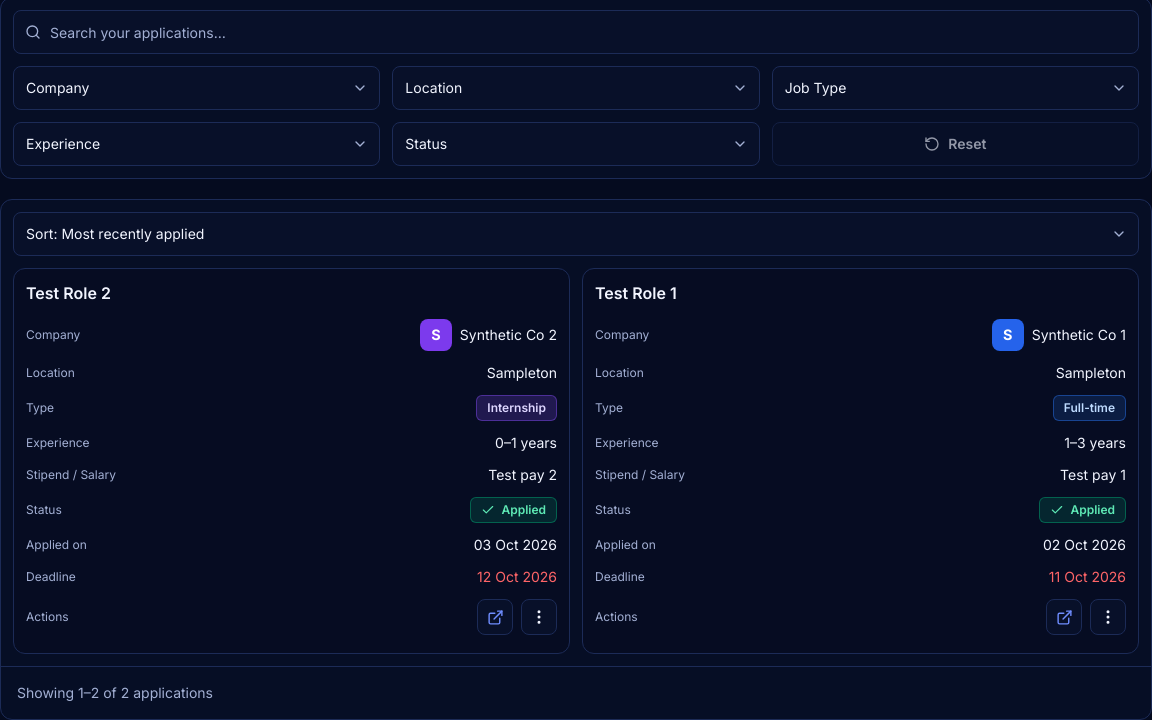
it: My Applications: updating status › saves status, stage and notes for the signed-in member only (no member ID sent) and updates the row
(page scrolled)
Click the button named "More actions: Test Role 1": (1108, 617) [1090,599,1126,635]
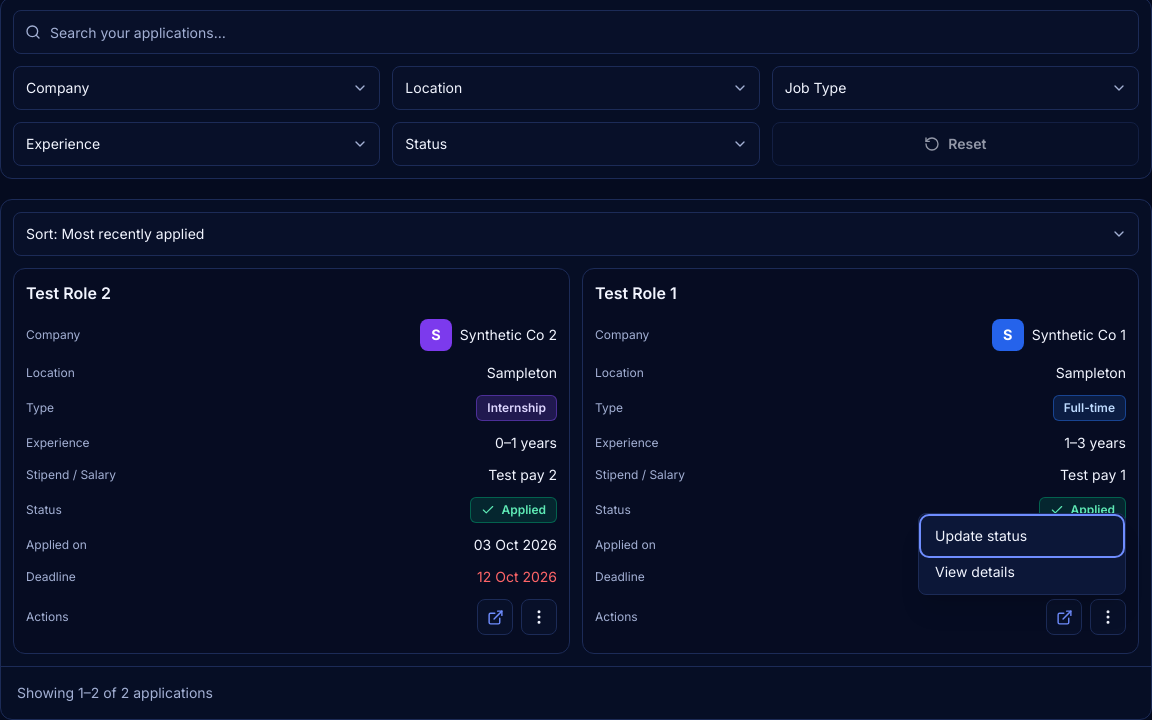
Click the menu item "Update status": (1022, 536) [923,518,1121,554]
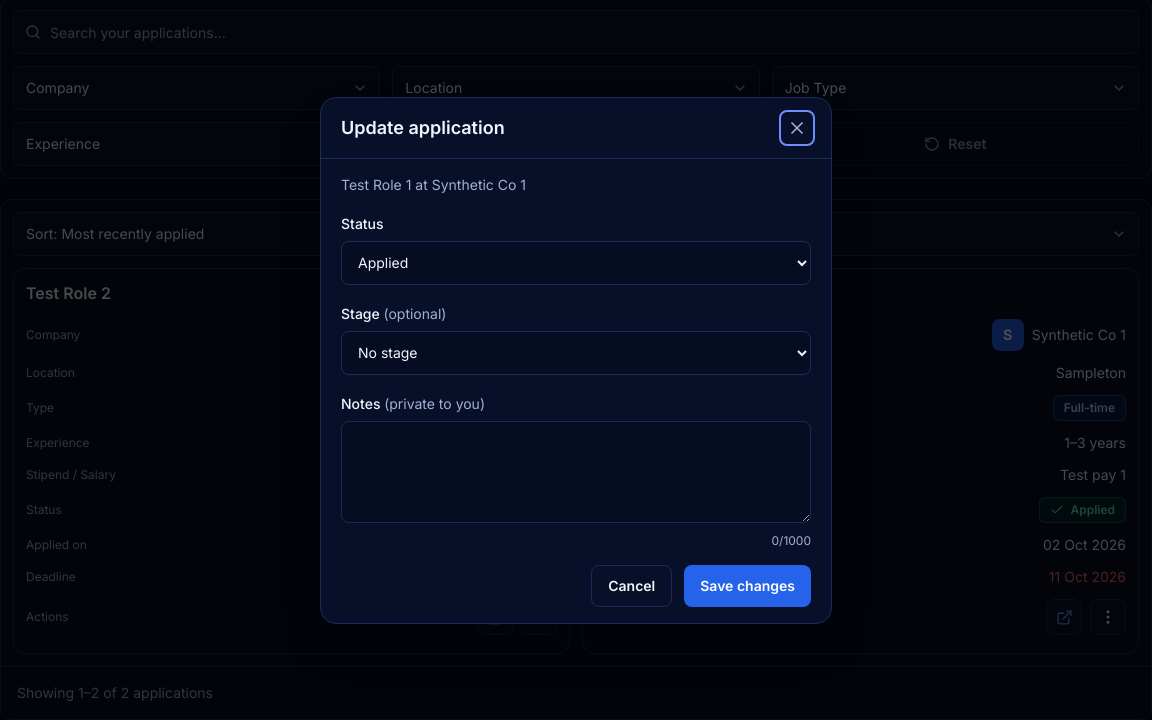
Select "Interview" in the dropdown labelled "Status": (576, 262) [341,240,811,284]
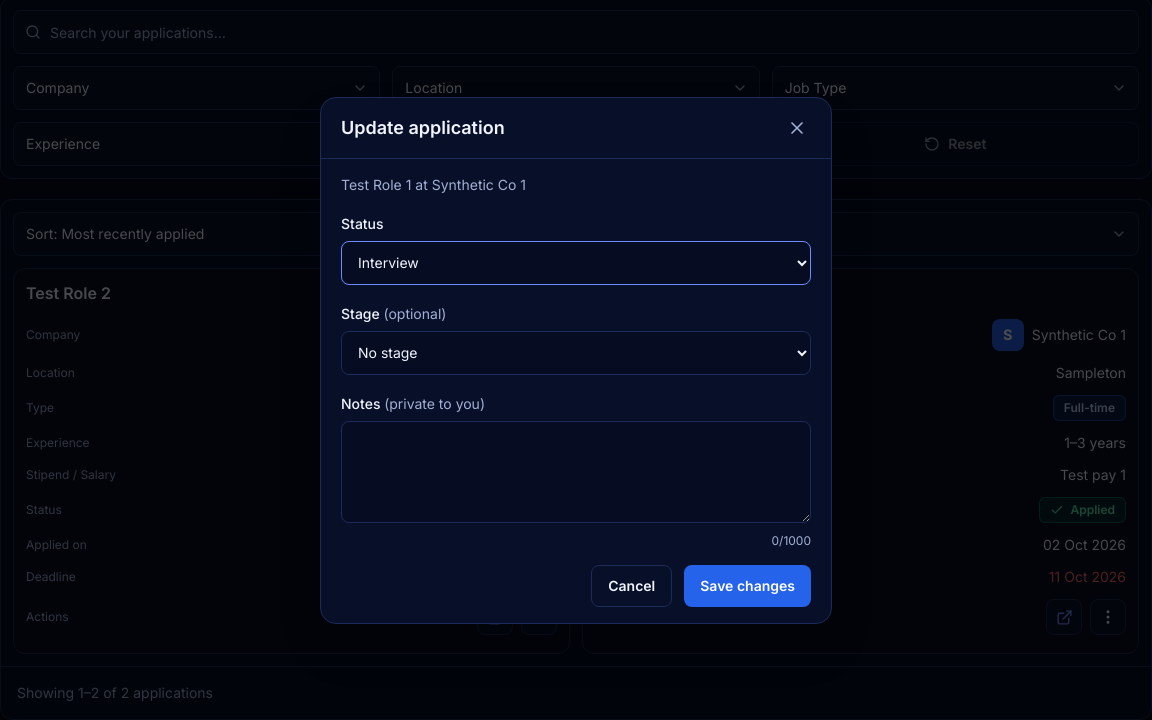
Select "HR Interview" in the dropdown labelled "Stage (optional)": (576, 352) [341,330,811,374]
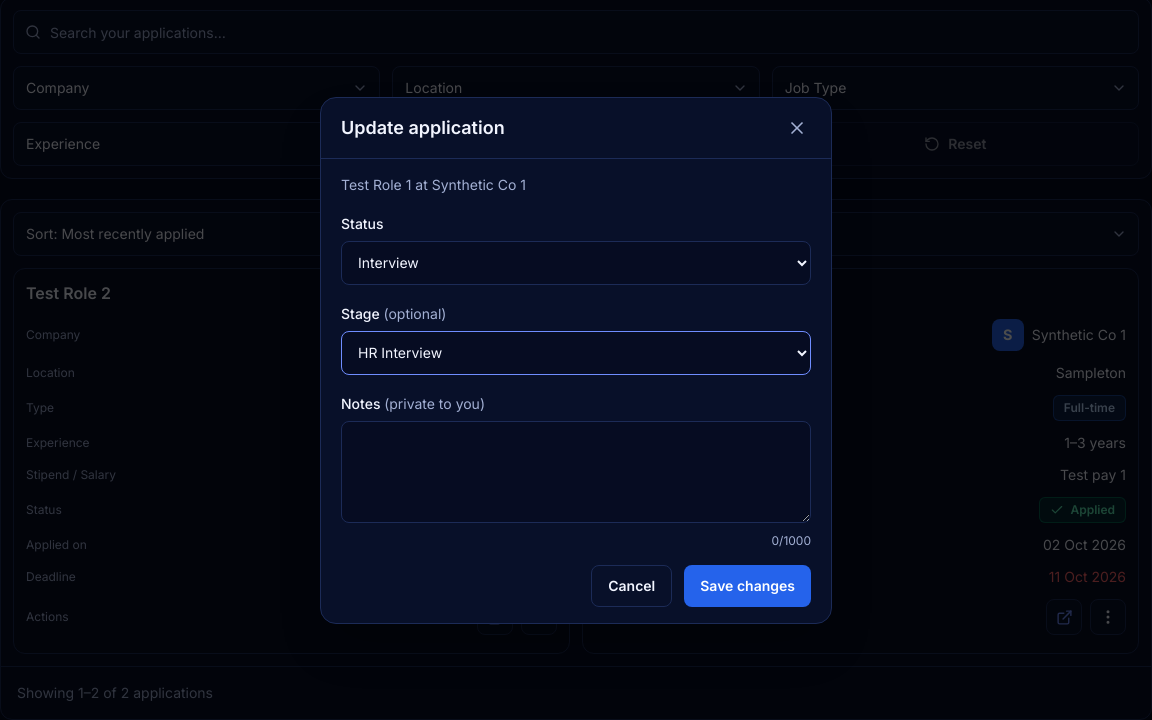
In the text box labelled "Notes (private to you)": (576, 472) [341,420,811,522], type "went well"
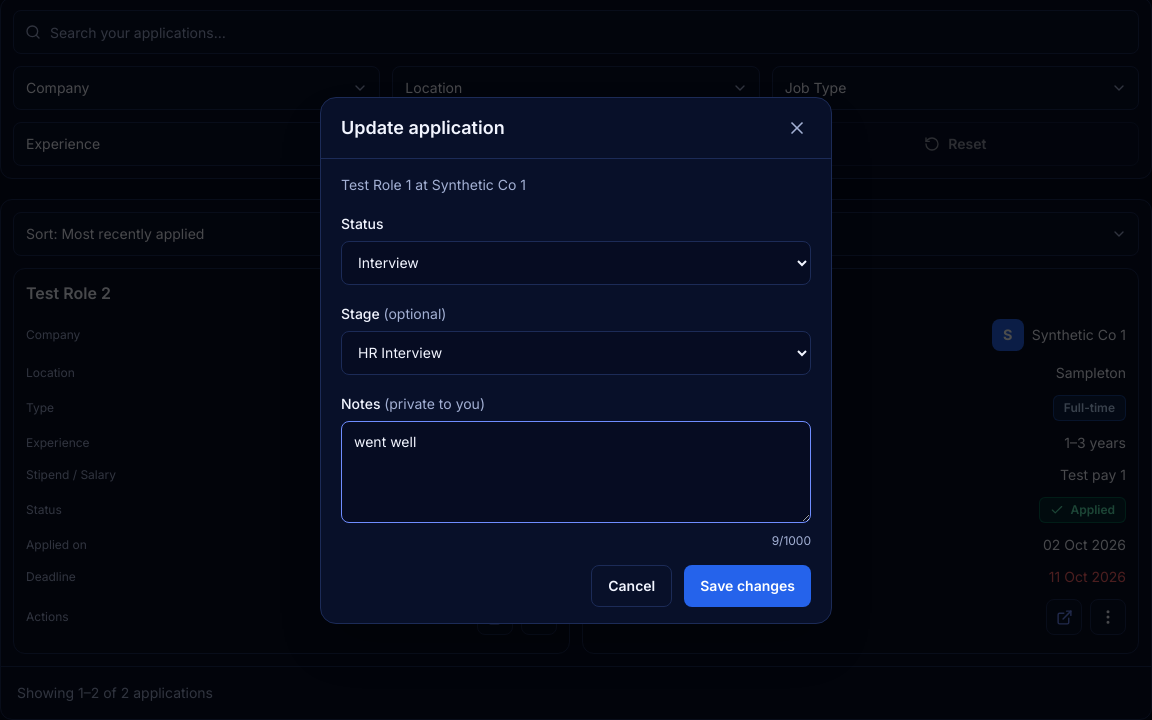
Click the button "Save changes": (748, 586) [684,564,811,606]
(page scrolled)
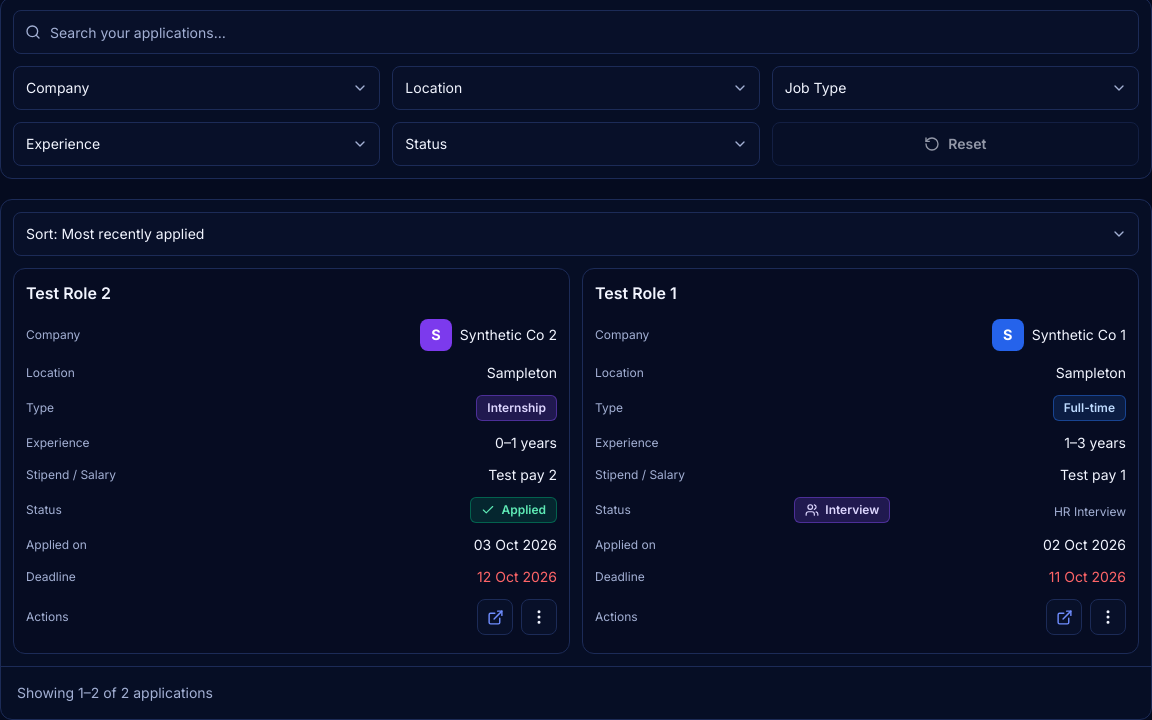
Expected: the dialog is gone
Expected: the text "HR Interview" is shown, [1054,504,1126,520]
Expected: the text "Interview" is shown, [794,497,890,523]
